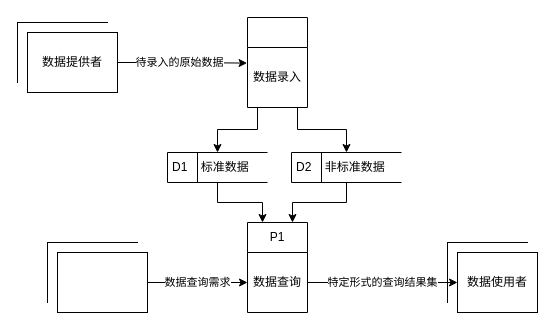
Some shapes in this 555 by 330 pixel diagram are drawn without their labels. The box of each missing label's shape, as (x1, y1, x2, y2) in pixels:
P2: (246, 16, 308, 108)
数据查询者: (56, 252, 148, 312)
